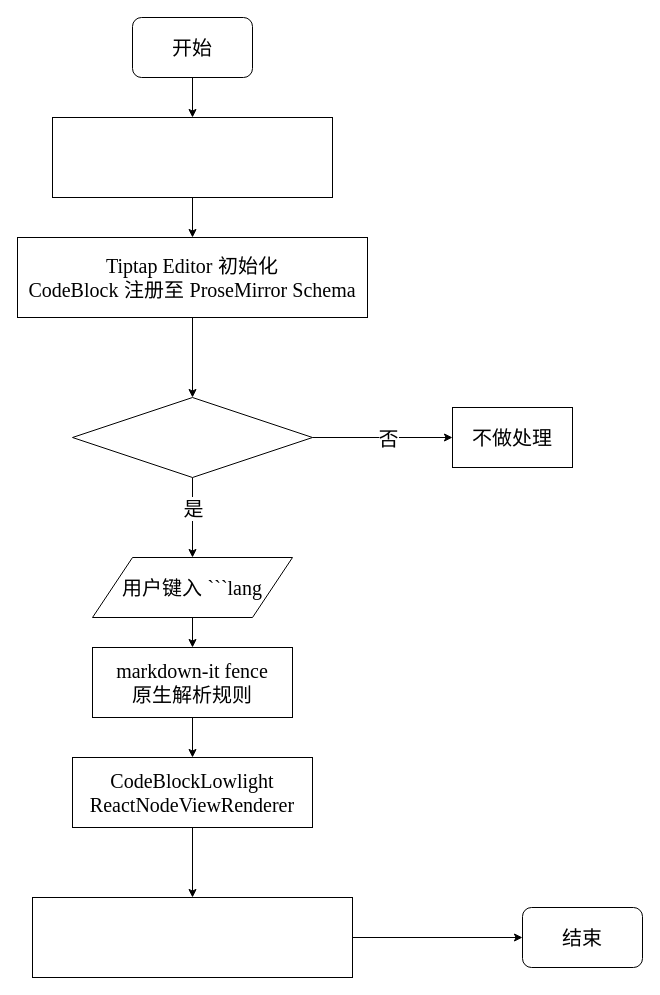
The diagram is 660 pixels wide and 995 high, and some of its shapes have lost their labels. The shapes that lost their labels are listed below. From the top down, each one's box as (x1, y1, x2, y2) in pixels, then its label:
(52, 116, 332, 198): 注册 CodeBlock 扩展 (CodeBlockLowlight + lowlight)
(72, 396, 312, 478): 存在Editor实例
(32, 896, 352, 978): ProseMirror 文档状态 / 输出 codeBlock node: { language, content }
